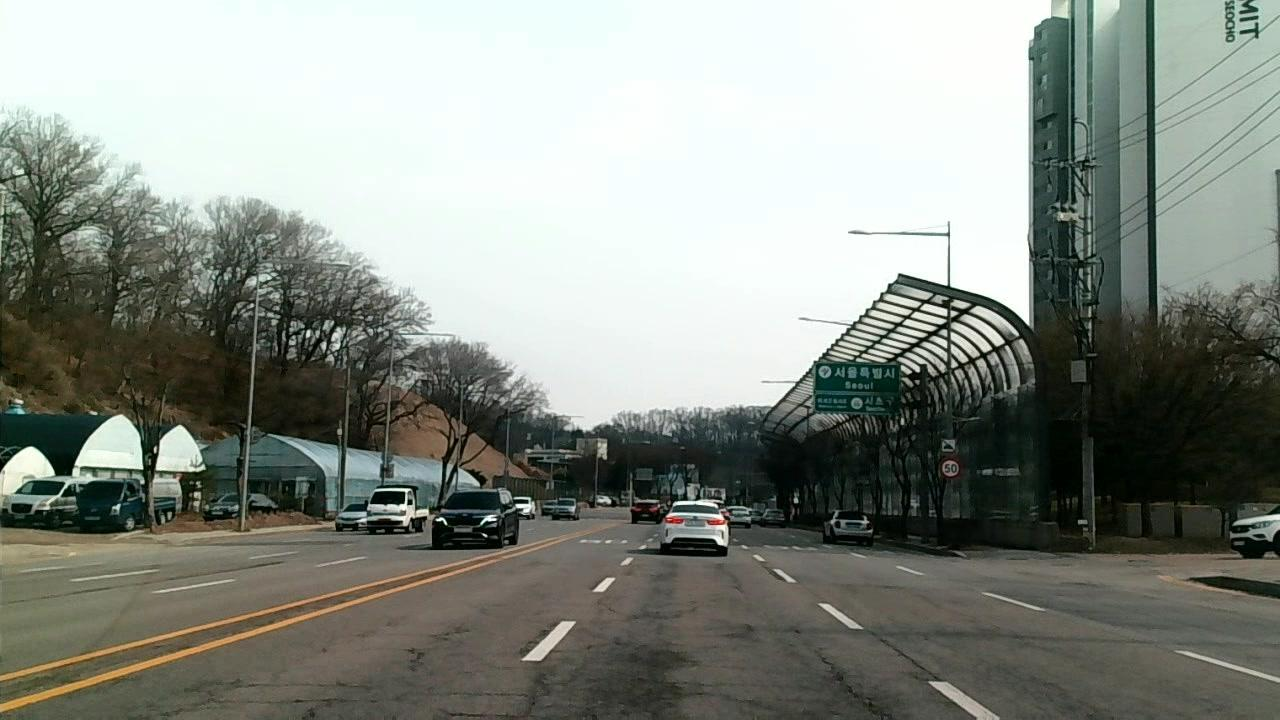banner: (531, 631, 698, 720), (818, 651, 891, 718), (404, 618, 482, 671), (875, 634, 942, 678), (195, 693, 380, 707), (205, 674, 370, 689), (432, 684, 533, 699), (439, 705, 526, 720)
